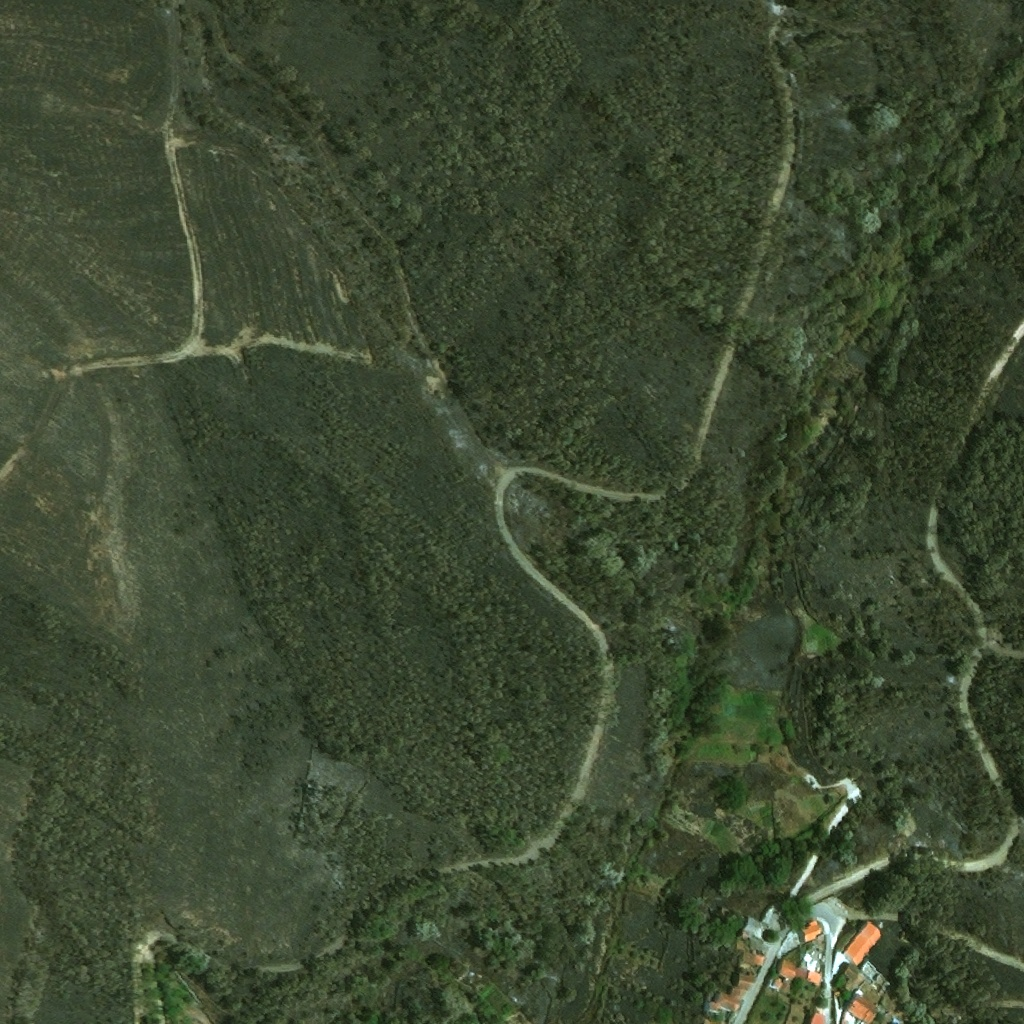0 no-damage: (843, 923, 884, 968), (738, 915, 773, 943), (849, 995, 882, 1023), (710, 991, 744, 1013), (742, 948, 769, 968), (845, 965, 865, 991), (801, 921, 823, 943), (778, 962, 800, 981), (735, 973, 757, 991), (842, 1010, 868, 1023), (774, 979, 792, 993), (731, 986, 749, 1000), (806, 972, 823, 986), (810, 1012, 828, 1023), (735, 939, 748, 951)
